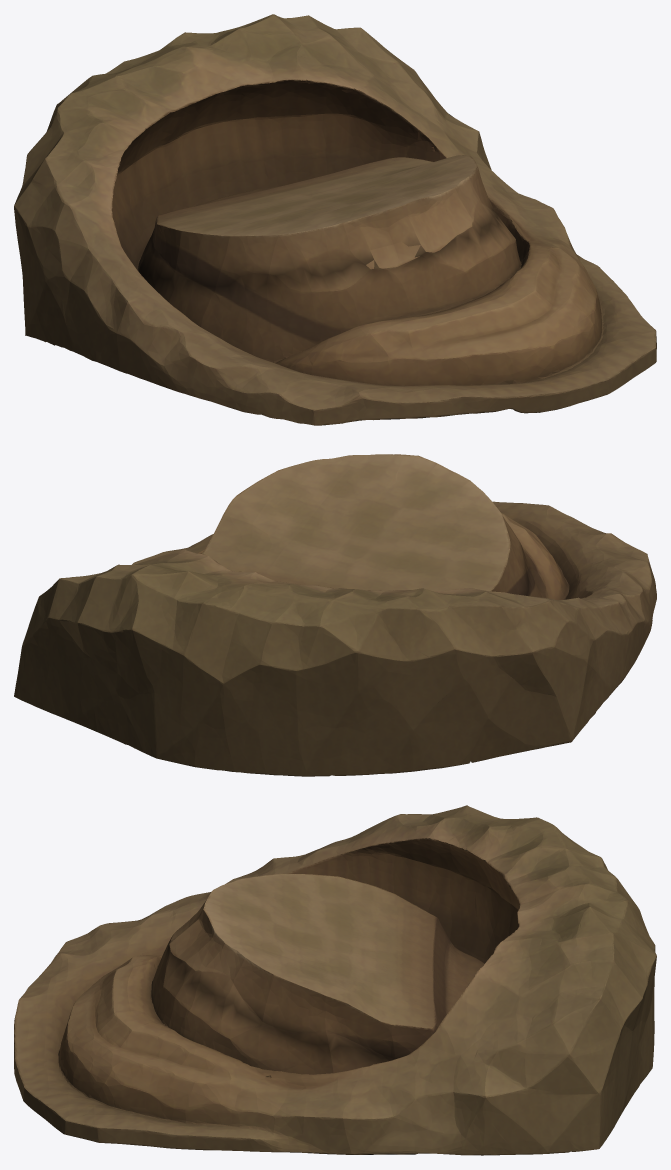
3 renders of one model, top to bottom at view 1: azimuth 30°, elevation 25°; view 2: azimuth 150°, elevation 25°; view 3: azimuth 270°, elevation 25°, orthographic. The views are drawn at different scales.
Parts seen in each view (by area): view 1: world; view 2: world; view 3: world.
Boxes of the visible parts, box(x1,y1,x2,y2) form: world: box(14, 14, 656, 425); world: box(14, 454, 656, 776); world: box(14, 805, 656, 1155).
Size of the model in its own units: 23.99 by 7.76 by 28.
Materials: 1 (1 with a texture image).
